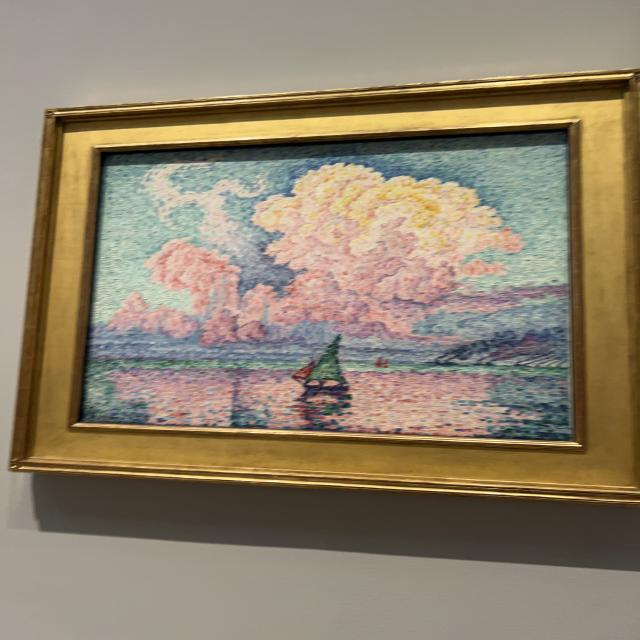sunrise: (85, 135, 570, 437)
